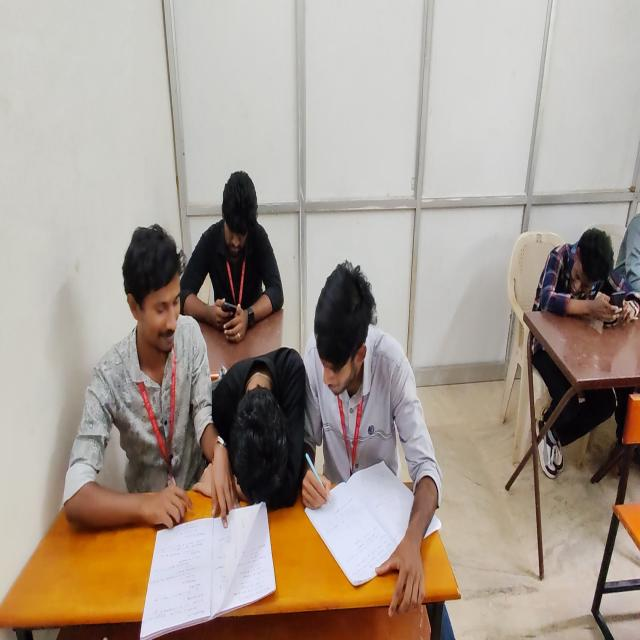sleeping: (198, 313, 315, 517)
turning: (47, 212, 233, 563)
using_mobile: (175, 152, 296, 344), (521, 195, 638, 336)
writing: (292, 244, 448, 620)
